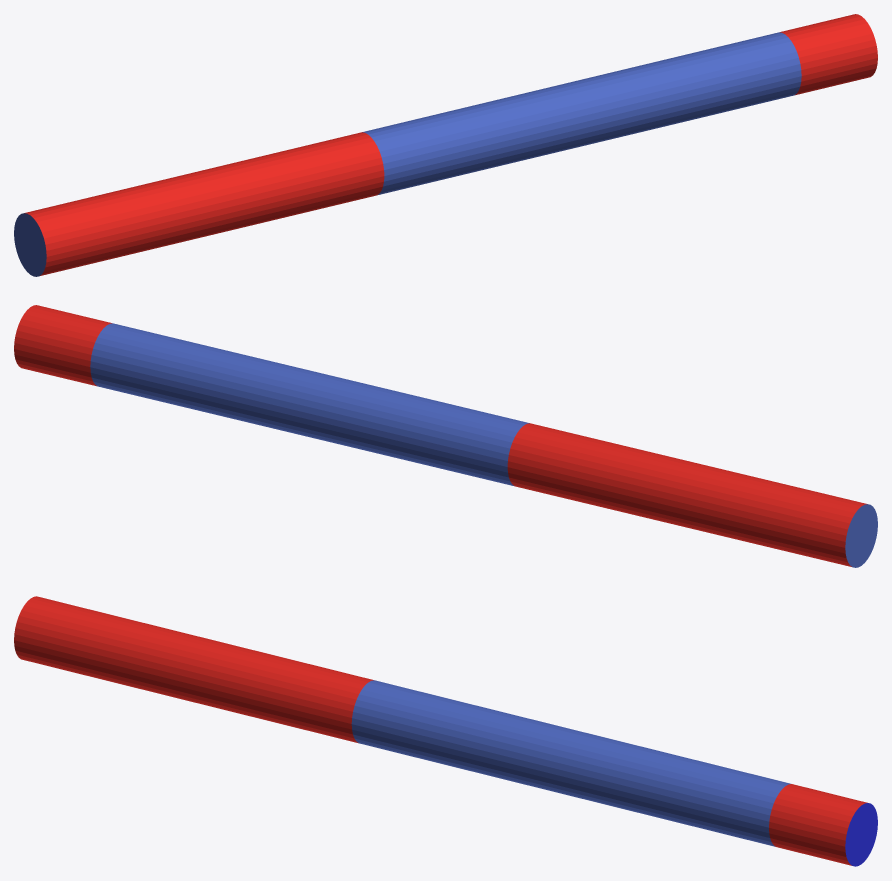
File: enemy_pen.glb
3 views of the same model, one above another, from view 1: azimuth 30°, elevation 25°; view 2: azimuth 150°, elevation 25°; view 3: azimuth 330°, elevation 25° (orthographic).
Visible parts, largest first — view 1: Cylinder; view 2: Cylinder; view 3: Cylinder.
Part boxes in pixels (x1=…): Cylinder: x1=14, y1=14, x2=877, y2=276; Cylinder: x1=14, y1=305, x2=877, y2=567; Cylinder: x1=14, y1=596, x2=877, y2=866.
Size of the model in its own units: 29.41 by 2.13 by 2.
